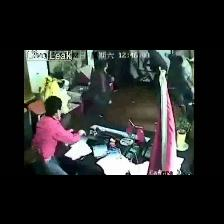person: (33, 96, 85, 174)
